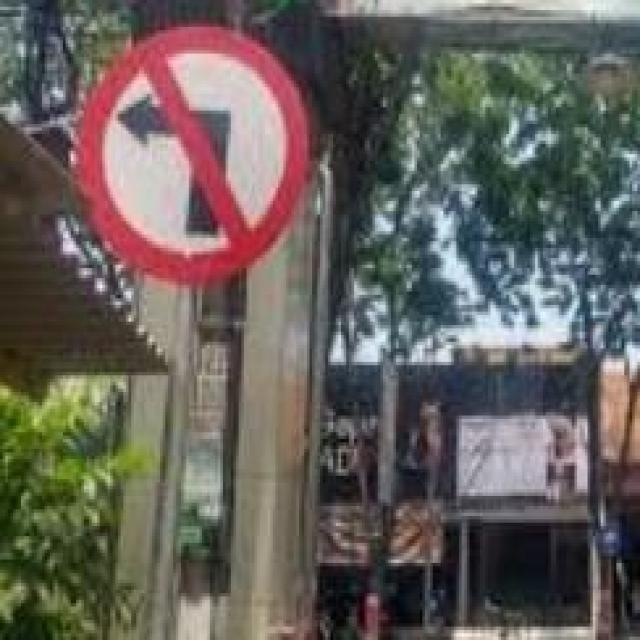traffic sign: (84, 30, 310, 282)
